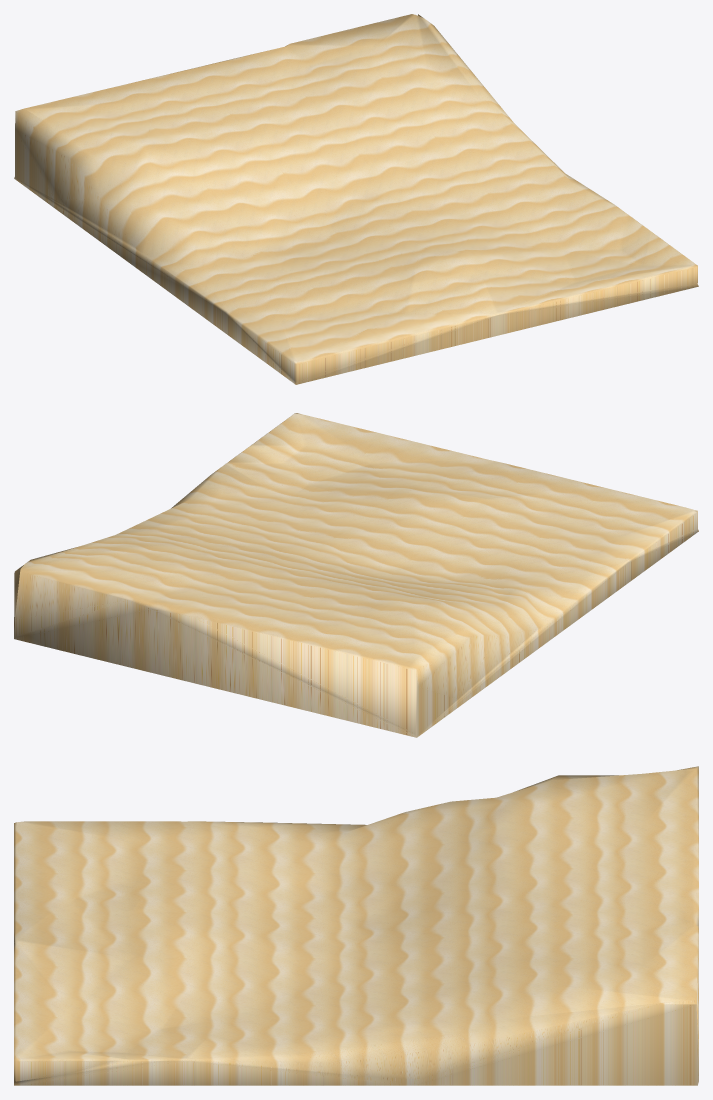
The model's file is beachNEW.fbx.
3 renders of one model, top to bottom at view 1: azimuth 30°, elevation 25°; view 2: azimuth 150°, elevation 25°; view 3: azimuth 270°, elevation 25°, orthographic. The views are drawn at different scales.
Parts seen in each view (by area): view 1: land_91.022; view 2: land_91.022; view 3: land_91.022.
Boxes of the visible parts, x1,y1,x2,y2 form: land_91.022: (14, 14, 698, 384); land_91.022: (14, 413, 698, 737); land_91.022: (14, 766, 698, 1085).
Bounding box in the file's own units: 14961 × 2433 × 18124.
1 material, 1 textured.
